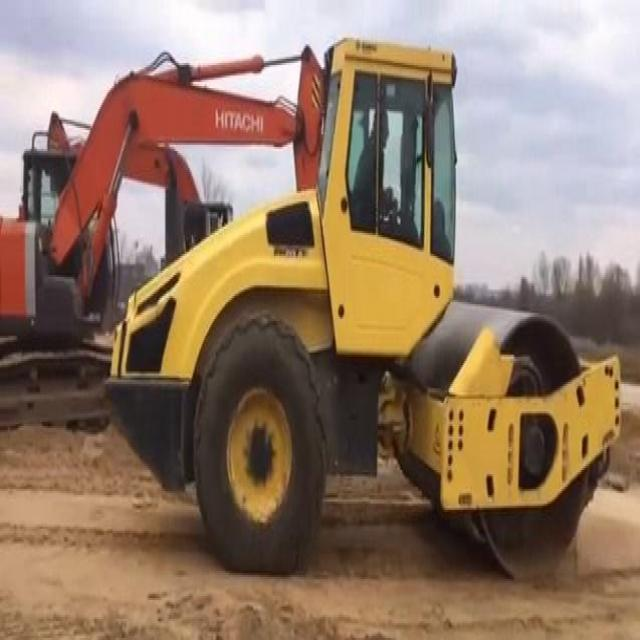Excavator: (0, 32, 326, 354)
Roller: (103, 31, 622, 578)
